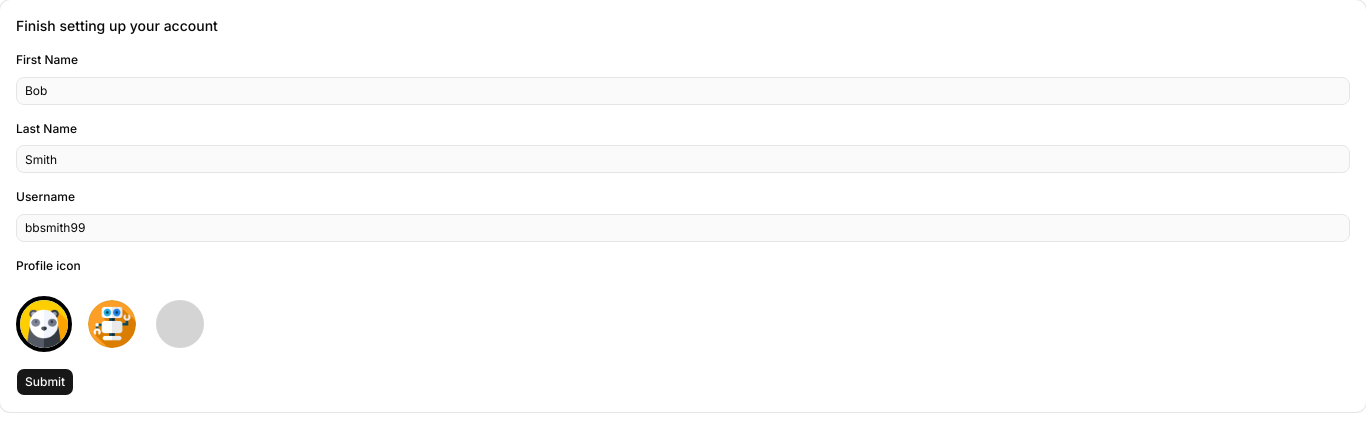
it: AccountSetupForm › does not redirect if error
This screenshot has width=1366, height=441.
Click the button "Submit" at (45, 382), box x1=16 y1=368 x2=74 y2=396
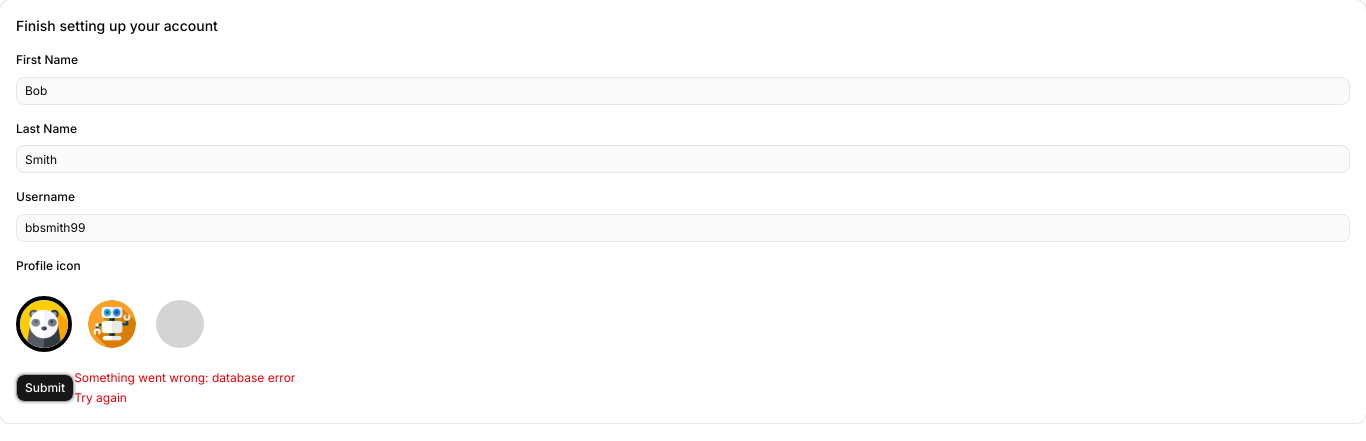
Check: the text "database error" is shown, box x1=212 y1=370 x2=295 y2=385
